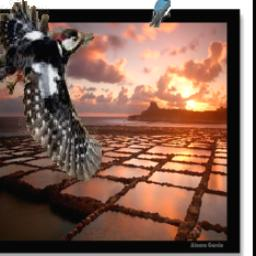Swallow: (149, 0, 171, 29)
Woodpecker: (0, 0, 106, 188)
